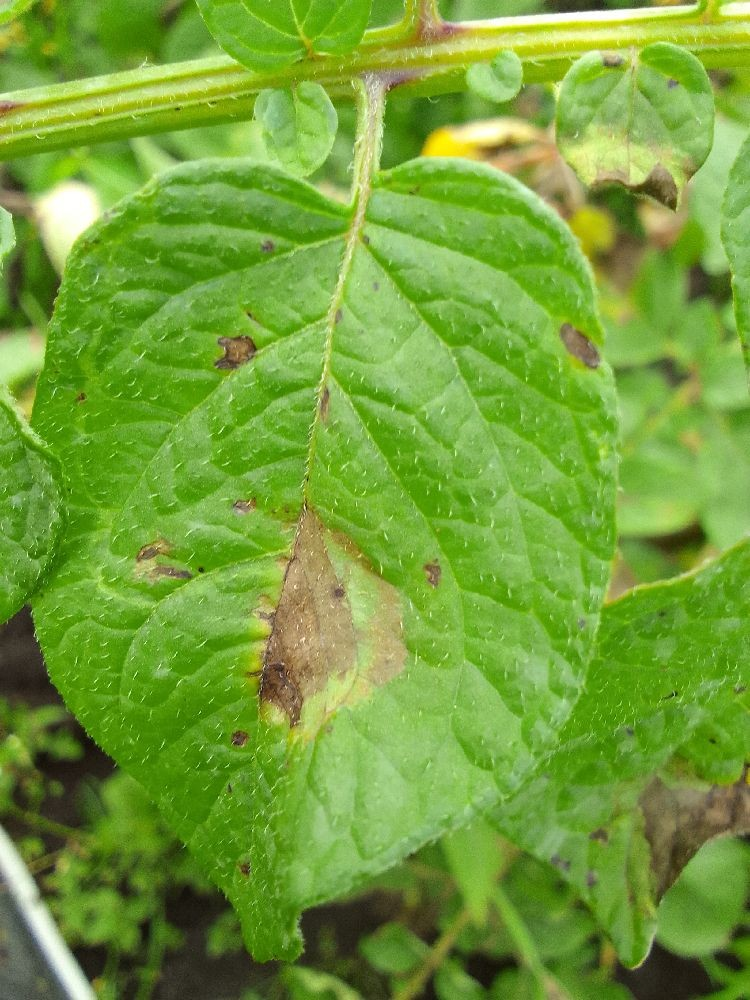late_blight: (238, 491, 423, 741), (40, 853, 315, 1000), (279, 836, 477, 1000), (0, 722, 135, 922)
